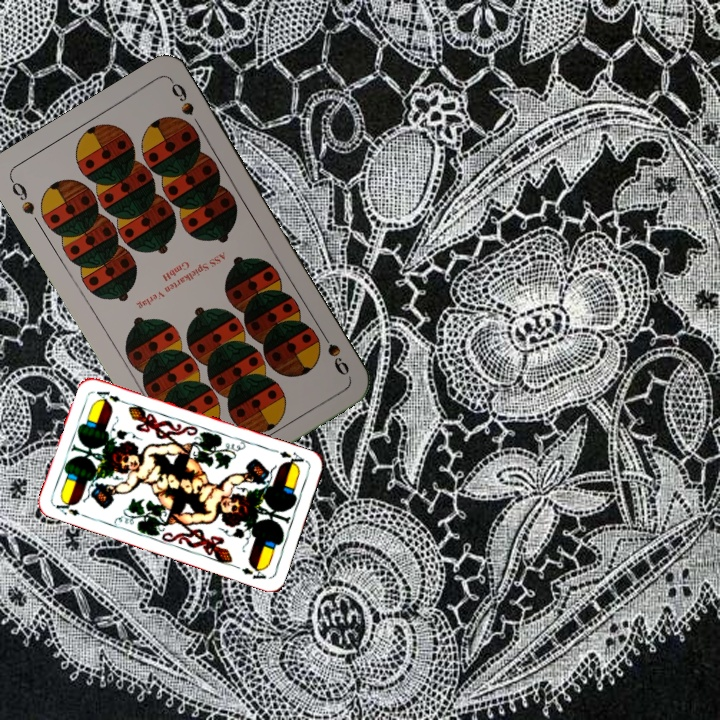EA: (51, 496, 91, 520), (276, 447, 307, 470)
S9: (315, 325, 352, 379), (6, 175, 38, 218)
